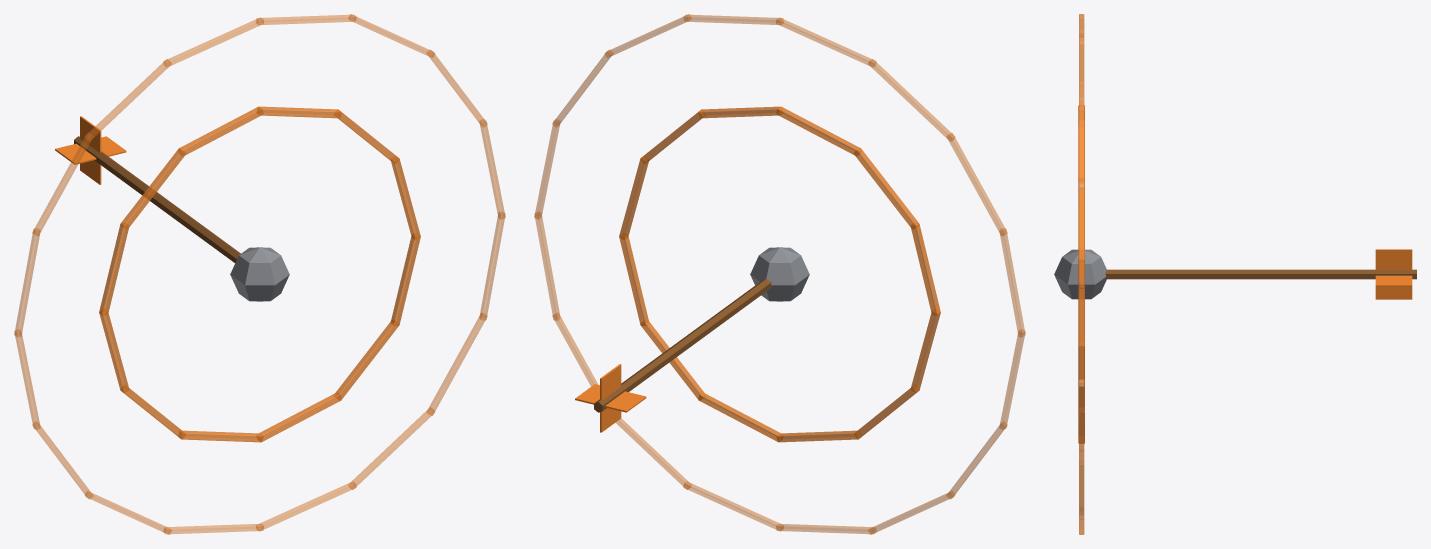
File: recon_pebble.glb
The picture shows the model from 3 angles, left to right: view 1: azimuth 30°, elevation 25°; view 2: azimuth 150°, elevation 25°; view 3: azimuth 270°, elevation 25°; orthographic projection. The views are drawn at different scales.
Parts seen in each view (by area): view 1: sensor_head, shaft, pulse_1_4, pulse_1_10, pulse_1_5, pulse_1_11, pulse_1_9, pulse_1_3, pulse_2_5, pulse_2_13, pulse_2_6, pulse_2_14 (+20 smaller); view 2: shaft, sensor_head, pulse_1_4, pulse_1_5, pulse_1_11, pulse_1_3, pulse_1_9, pulse_2_5, pulse_2_6, fletch_v, pulse_2_7, pulse_2_15 (+20 smaller); view 3: shaft, sensor_head, fletch_v, pulse_2_1, pulse_2_0, pulse_1_0, pulse_1_1, pulse_2_2, pulse_2_15, fletch_h, pulse_1_11.
Boxes of the visible parts, left/top/right/bottom form: sensor_head: left=230, top=247, right=289, bottom=301; shaft: left=74, top=136, right=240, bottom=262; pulse_1_4: left=120, top=148, right=185, bottom=229; pulse_1_10: left=334, top=319, right=399, bottom=400; pulse_1_5: left=99, top=223, right=129, bottom=315; pulse_1_11: left=391, top=233, right=420, bottom=325; pulse_1_9: left=256, top=393, right=341, bottom=442; pulse_1_3: left=178, top=106, right=263, bottom=155; pulse_2_5: left=85, top=59, right=171, bottom=141; pulse_2_13: left=348, top=407, right=434, bottom=489; pulse_2_6: left=32, top=133, right=93, bottom=236; pulse_2_14: left=426, top=312, right=487, bottom=415; shaft: left=594, top=279, right=771, bottom=412; sensor_head: left=750, top=247, right=809, bottom=301; pulse_1_4: left=854, top=148, right=919, bottom=229; pulse_1_5: left=911, top=223, right=940, bottom=315; pulse_1_11: left=619, top=233, right=648, bottom=325; pulse_1_3: left=776, top=106, right=861, bottom=156; pulse_1_9: left=698, top=393, right=783, bottom=442; pulse_2_5: left=868, top=59, right=954, bottom=141; pulse_2_6: left=946, top=133, right=1007, bottom=236; fletch_v: left=600, top=364, right=621, bottom=432; pulse_2_7: left=999, top=228, right=1025, bottom=336; pulse_2_15: left=534, top=212, right=560, bottom=320; shaft: left=1105, top=269, right=1416, bottom=279; sensor_head: left=1054, top=249, right=1106, bottom=299; fletch_v: left=1375, top=249, right=1412, bottom=299; pulse_2_1: left=1079, top=183, right=1084, bottom=288; pulse_2_0: left=1079, top=282, right=1084, bottom=386; pulse_1_0: left=1078, top=258, right=1084, bottom=346; pulse_1_1: left=1078, top=177, right=1084, bottom=261; pulse_2_2: left=1079, top=97, right=1084, bottom=189; pulse_2_15: left=1079, top=380, right=1084, bottom=467; fletch_h: left=1375, top=275, right=1412, bottom=286; pulse_1_11: left=1078, top=342, right=1084, bottom=413.
Size of the model in its own units: 1.14 by 1.14 by 0.79.
